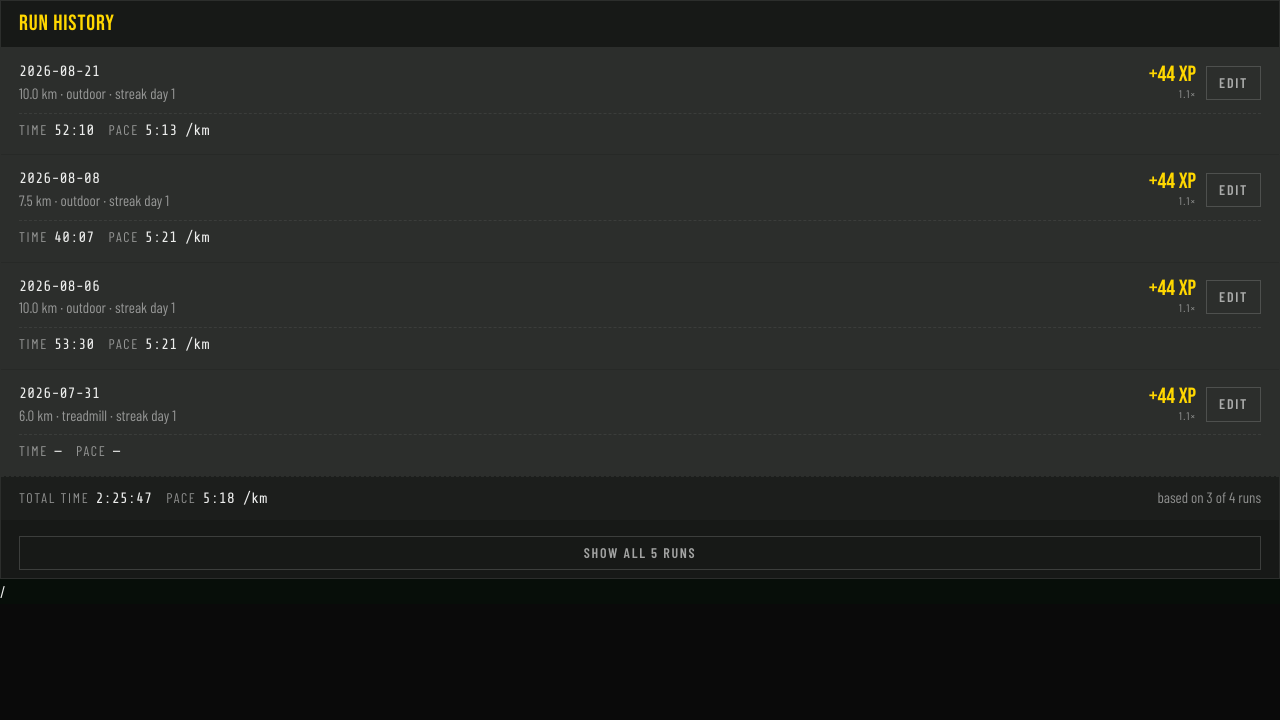
Test: run history summary › run history summary follows the rows shown and updates on show all
Expected: the text "2:25:47" is shown, x1=95 y1=488 x2=152 y2=510
Expected: the text "5:18 /km" is shown, x1=202 y1=488 x2=267 y2=510
Step 1. Click the button "Show all 5 runs" → (640, 553), box x1=19 y1=536 x2=1261 y2=570
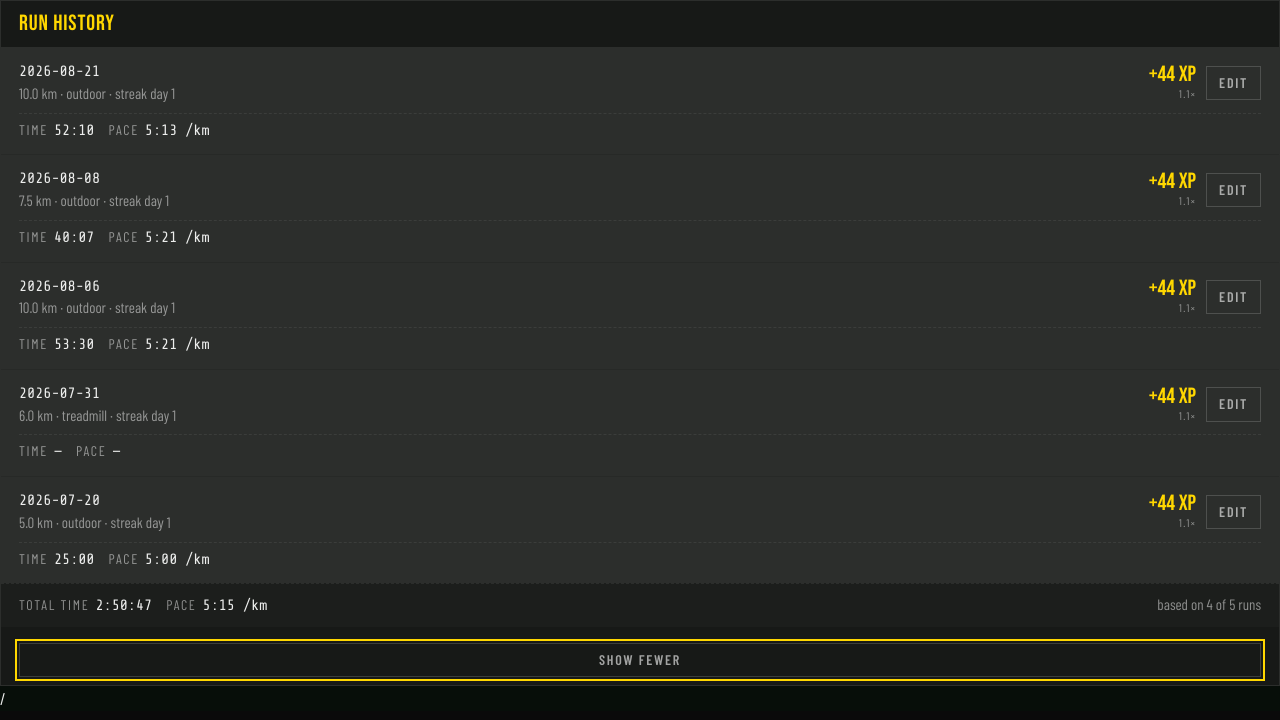
Expected: the text "2:50:47" is shown, x1=95 y1=595 x2=152 y2=617
Expected: the text "5:15 /km" is shown, x1=202 y1=595 x2=267 y2=617
Step 2. Click the button "Show fewer" → (640, 660), box x1=19 y1=643 x2=1261 y2=677
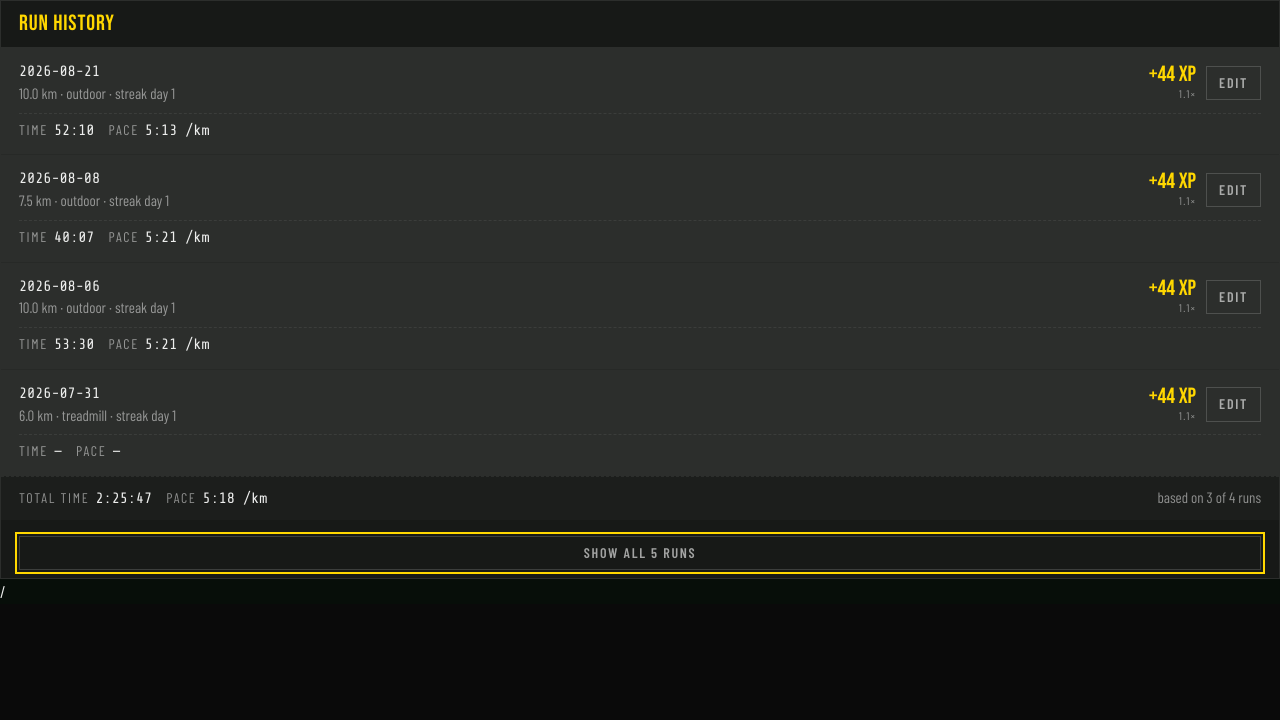
Expected: the text "2:25:47" is shown, x1=95 y1=488 x2=152 y2=510
